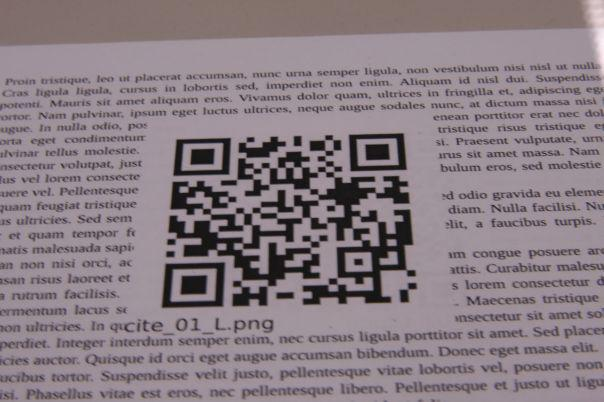Finder pattern: (161, 262, 228, 309), (346, 131, 410, 173), (172, 136, 233, 178)
